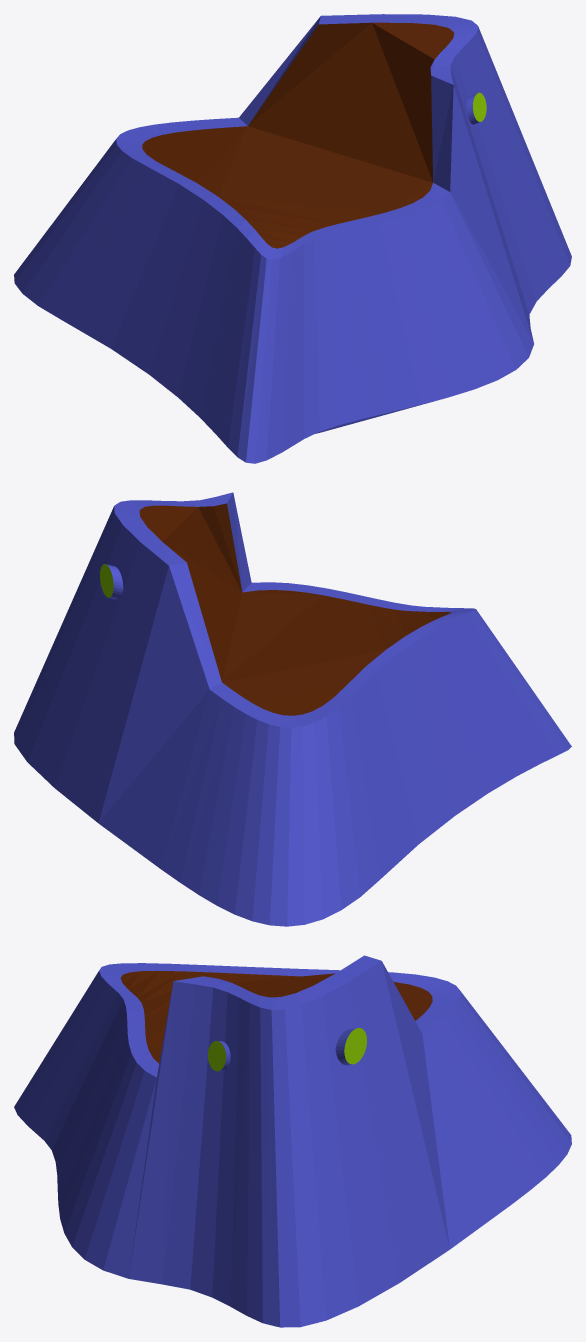
Rendered from emptySlug.dae.
3 views of the same model, one above another, from view 1: azimuth 30°, elevation 25°; view 2: azimuth 150°, elevation 25°; view 3: azimuth 270°, elevation 25° (orthographic). The views are drawn at different scales.
Parts seen in each view (by area): view 1: BezierCurve; view 2: BezierCurve; view 3: BezierCurve.
Part boxes in pixels (x1=…): BezierCurve: x1=14, y1=14, x2=571, y2=463; BezierCurve: x1=14, y1=492, x2=571, y2=926; BezierCurve: x1=14, y1=955, x2=571, y2=1327.
Size of the model in its own units: 3.94 by 4.02 by 2.9.
